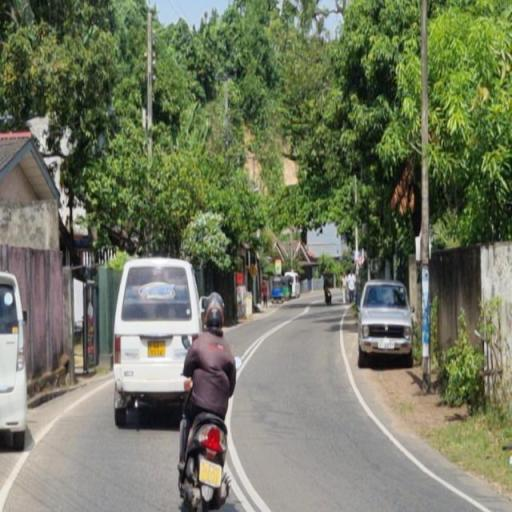double_white_line: (230, 441, 272, 512)
